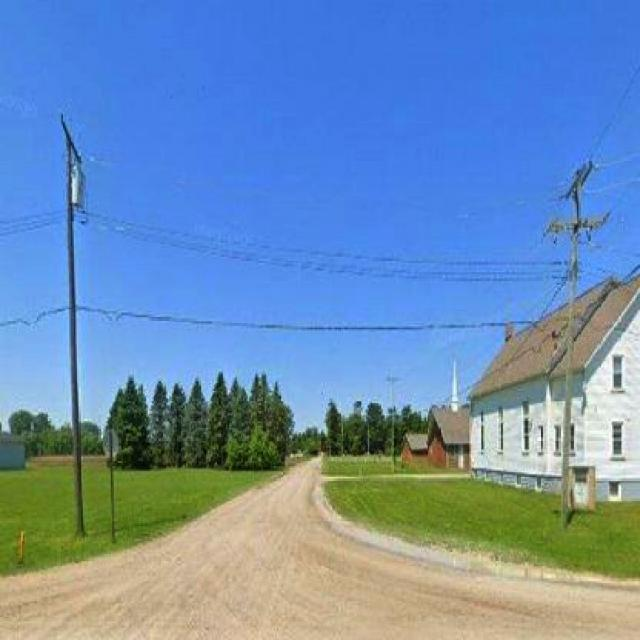crossarm: (565, 163, 596, 201), (62, 115, 82, 165), (548, 218, 608, 233)
pole: (62, 117, 86, 538), (563, 185, 581, 525)
transformer: (71, 165, 84, 206)
wire: (79, 208, 568, 265), (79, 306, 540, 330), (589, 65, 640, 162), (510, 279, 567, 361), (0, 306, 70, 328), (0, 218, 68, 237), (0, 213, 69, 231), (0, 208, 69, 225)
